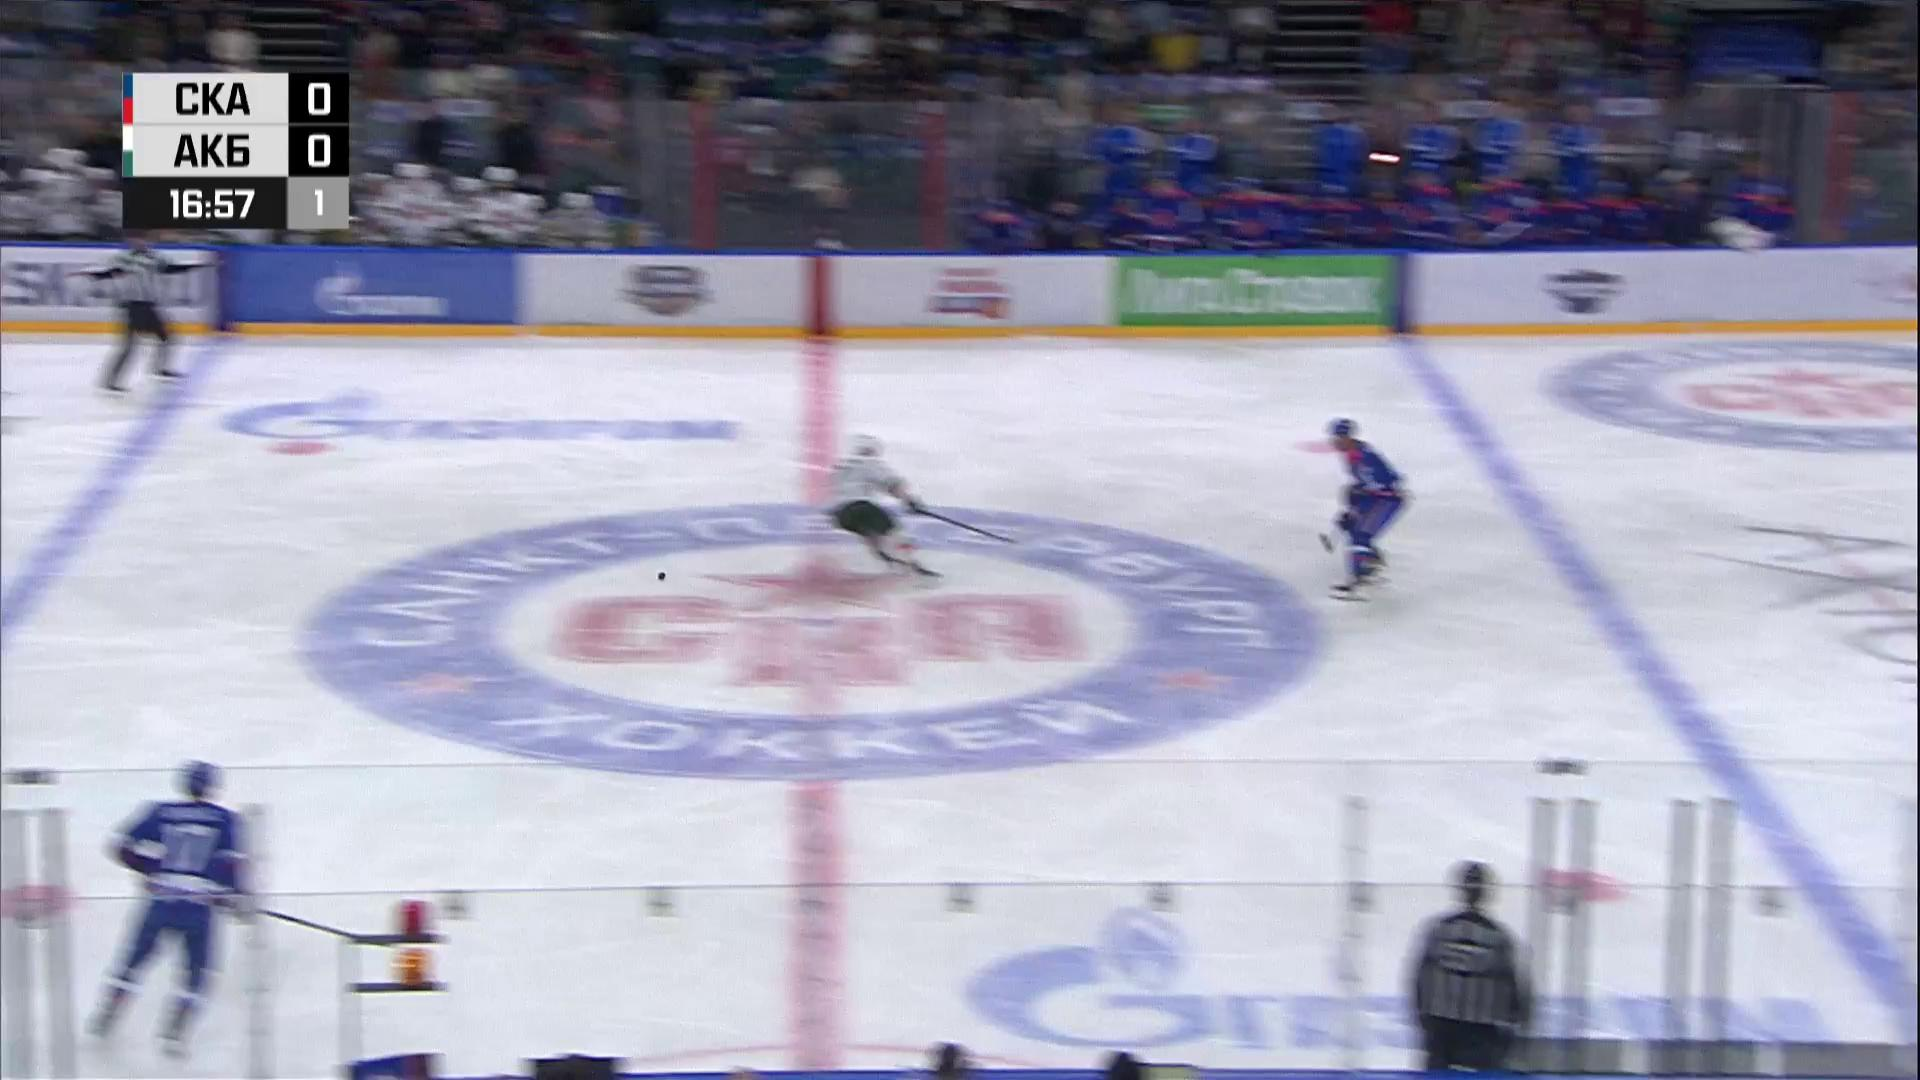ball: (657, 571, 667, 582)
